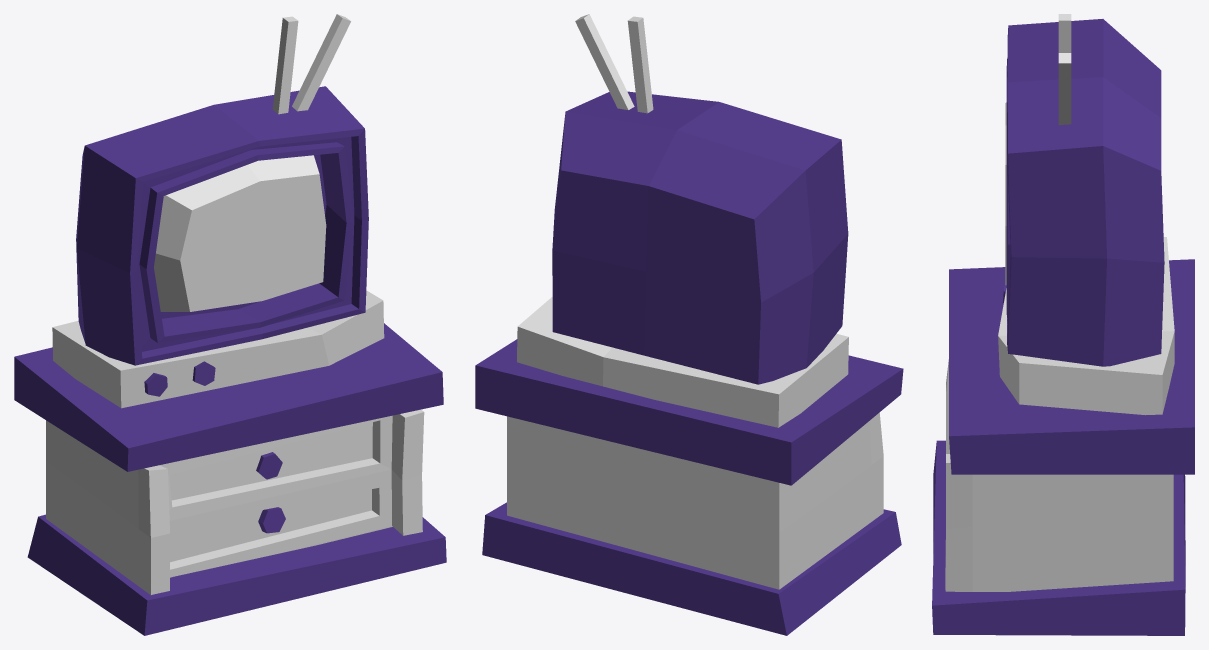
3 renders of one model, left to right at view 1: azimuth 30°, elevation 25°; view 2: azimuth 150°, elevation 25°; view 3: azimuth 270°, elevation 25°, orthographic. The views are drawn at different scales.
Visible parts, largest first — view 1: tv; view 2: tv; view 3: tv.
Boxes of the visible parts, bbox=[...] form: tv: bbox=[14, 14, 446, 635]; tv: bbox=[475, 14, 903, 635]; tv: bbox=[932, 14, 1194, 635].
Size of the model in its own units: 109 by 173 by 71.97.
